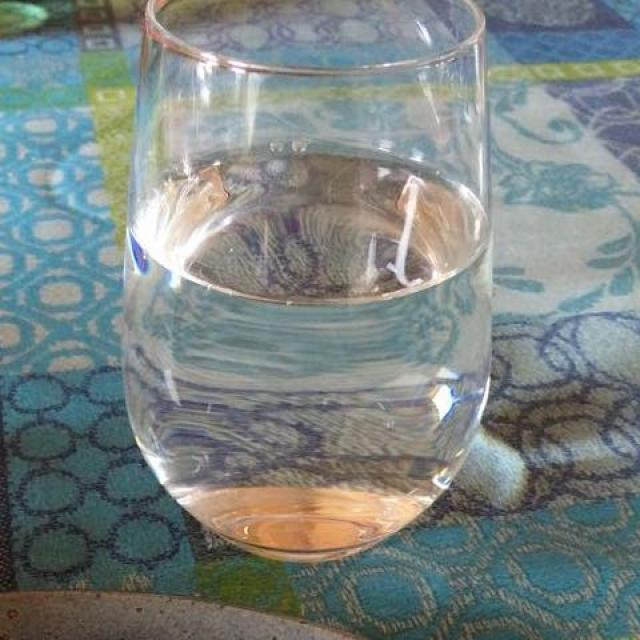water: (116, 170, 474, 547)
